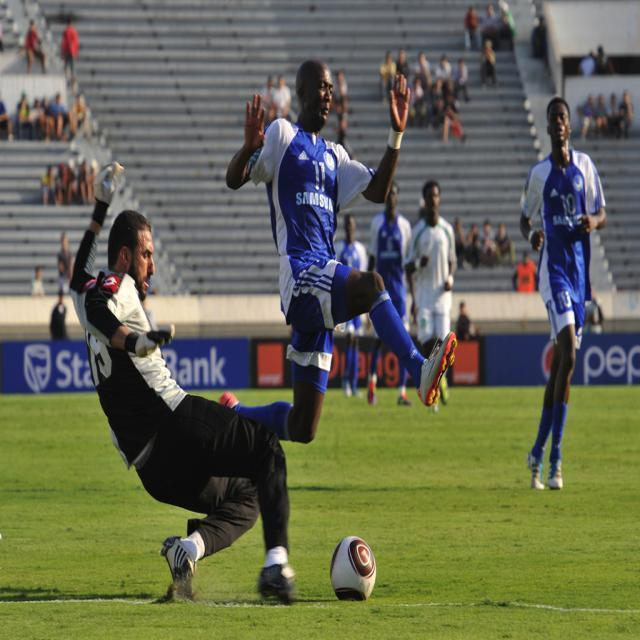ball: (330, 536, 378, 600)
